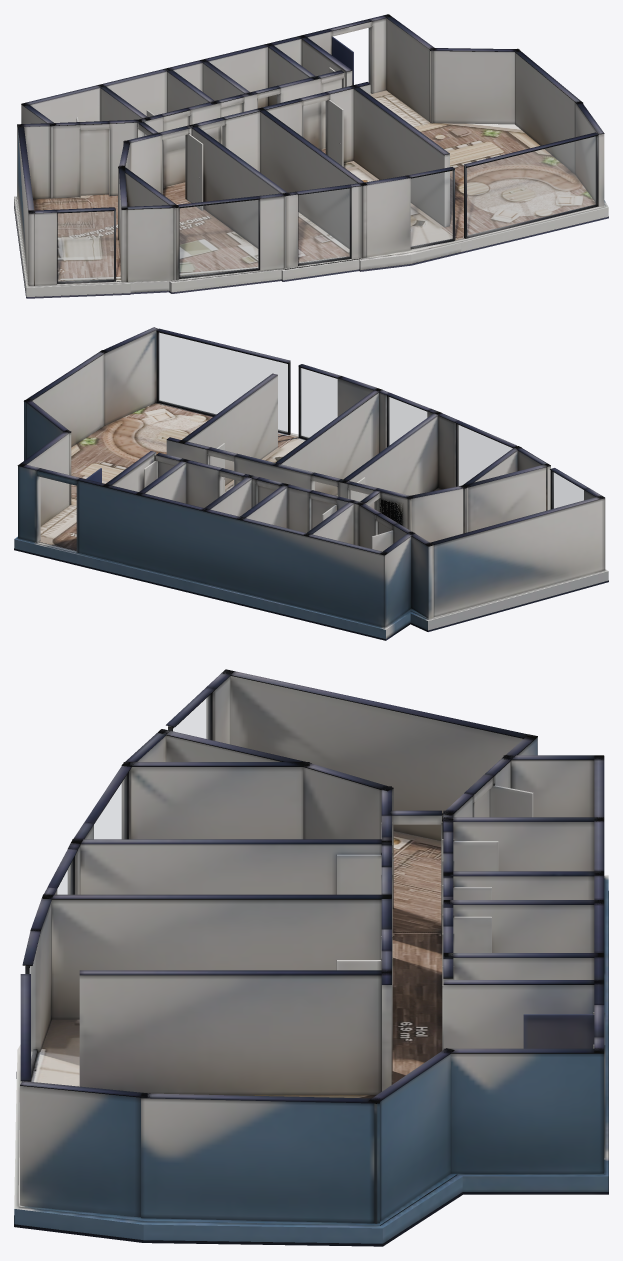
3 views of the same model, one above another, from view 1: azimuth 30°, elevation 25°; view 2: azimuth 150°, elevation 25°; view 3: azimuth 270°, elevation 25° (orthographic). The views are drawn at different scales.
Parts seen in each view (by area): view 1: plan, glass4_m, glass1_m, glass0_m, glass2_m, glass3_m; view 2: plan, glass4_m, glass3_m, glass1_m, glass2_m, glass0_m; view 3: plan, glass1_m, glass0_m.
Boxes of the visible parts, x1=… form: plan: x1=14, y1=14, x2=608, y2=298; glass4_m: x1=467, y1=136, x2=596, y2=235; glass1_m: x1=180, y1=200, x2=258, y2=276; glass0_m: x1=58, y1=211, x2=113, y2=281; glass2_m: x1=298, y1=188, x2=349, y2=263; glass3_m: x1=411, y1=171, x2=452, y2=246; plan: x1=14, y1=327, x2=608, y2=640; glass4_m: x1=159, y1=333, x2=287, y2=431; glass3_m: x1=301, y1=368, x2=337, y2=437; glass1_m: x1=457, y1=424, x2=512, y2=485; glass2_m: x1=388, y1=397, x2=426, y2=445; glass0_m: x1=553, y1=472, x2=583, y2=508; plan: x1=14, y1=669, x2=608, y2=1246; glass1_m: x1=94, y1=776, x2=126, y2=838; glass0_m: x1=173, y1=695, x2=209, y2=739.
Bounding box in the file's own units: 17.7 × 2.62 × 10.12.
2 materials, 1 textured.
